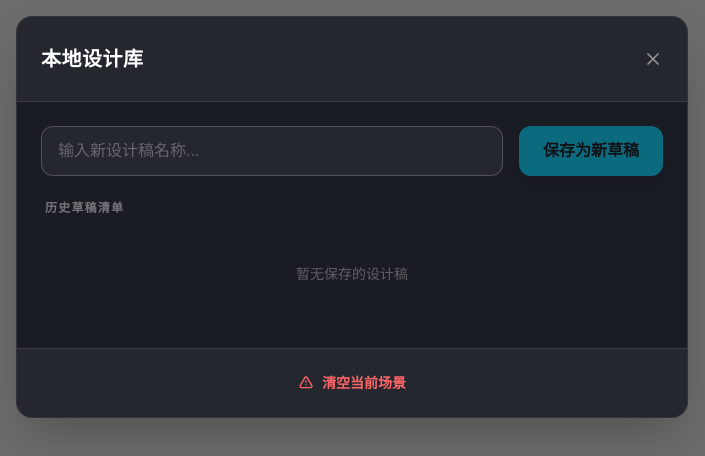
ProjectManager › 删除项目 › confirm=true -> 项目从列表消失
Type "待删除" into the field with placeholder "输入新设计稿名称...".
click(272, 151); type("待删除")  # box [41, 126, 503, 176]
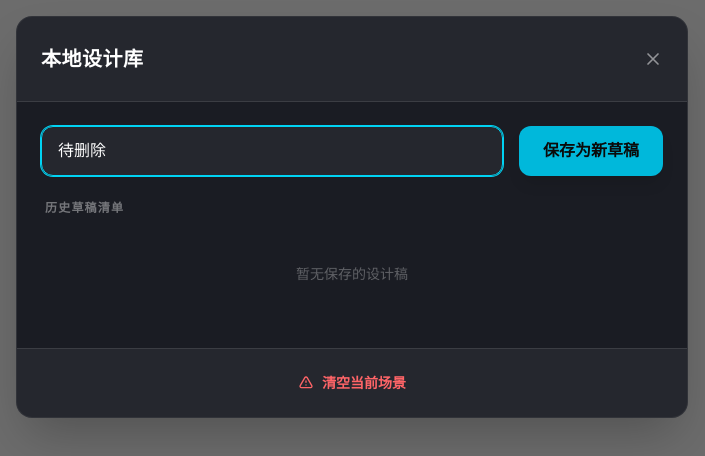
Click the button "保存为新草稿".
click(591, 151)  # box [519, 126, 663, 176]
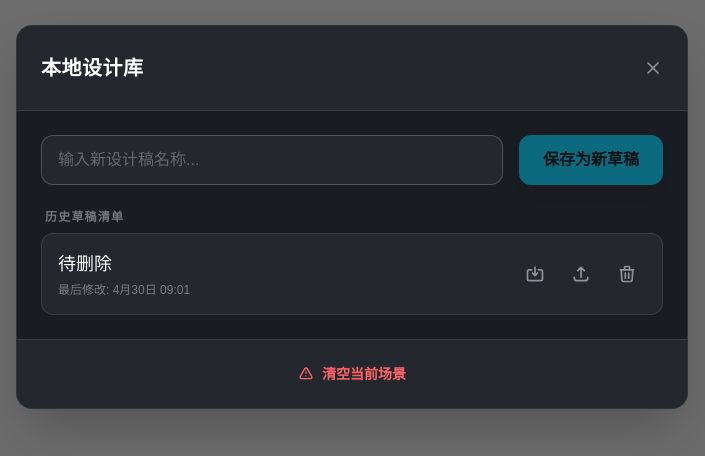
Result: the text "待删除" is shown at [58, 254, 112, 274]
Click the button titled "删除此草稿".
click(627, 274)  # box [608, 255, 646, 293]
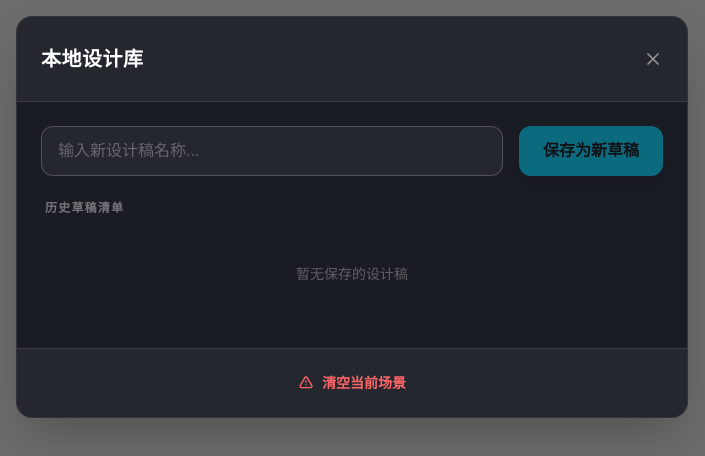
Result: the text "待删除" is gone
